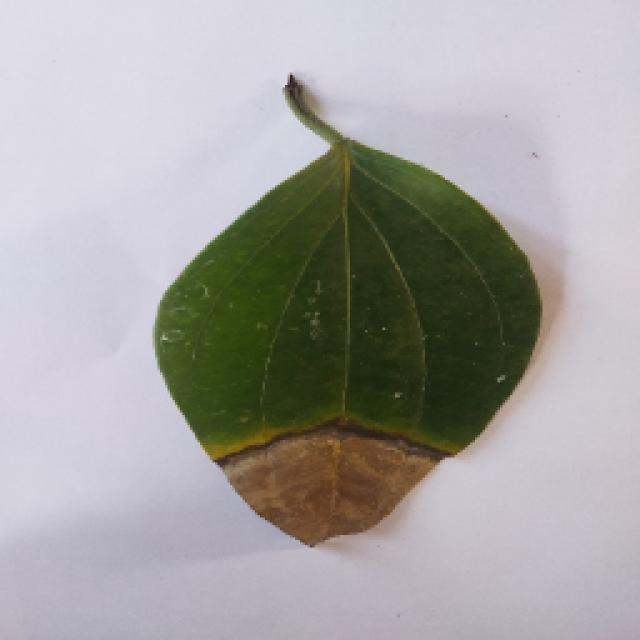footrot: (147, 80, 545, 550)
